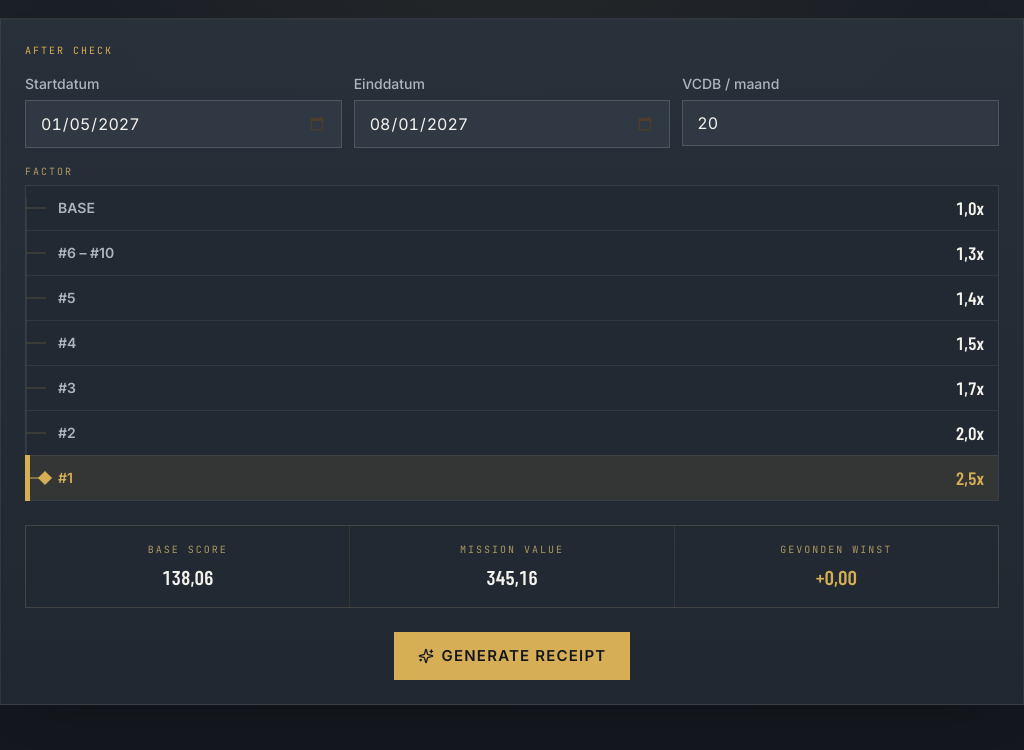
MissionReceiptFlow — receipt is never gated on 6/6 › B. 5/6, with a Calculator session: GENERATE RECEIPT is present and produces a receipt
The width and height of the screenshot is (1024, 750).
Click the button "Generate Receipt": [512, 656] box [394, 632, 630, 680]
(page scrolled)
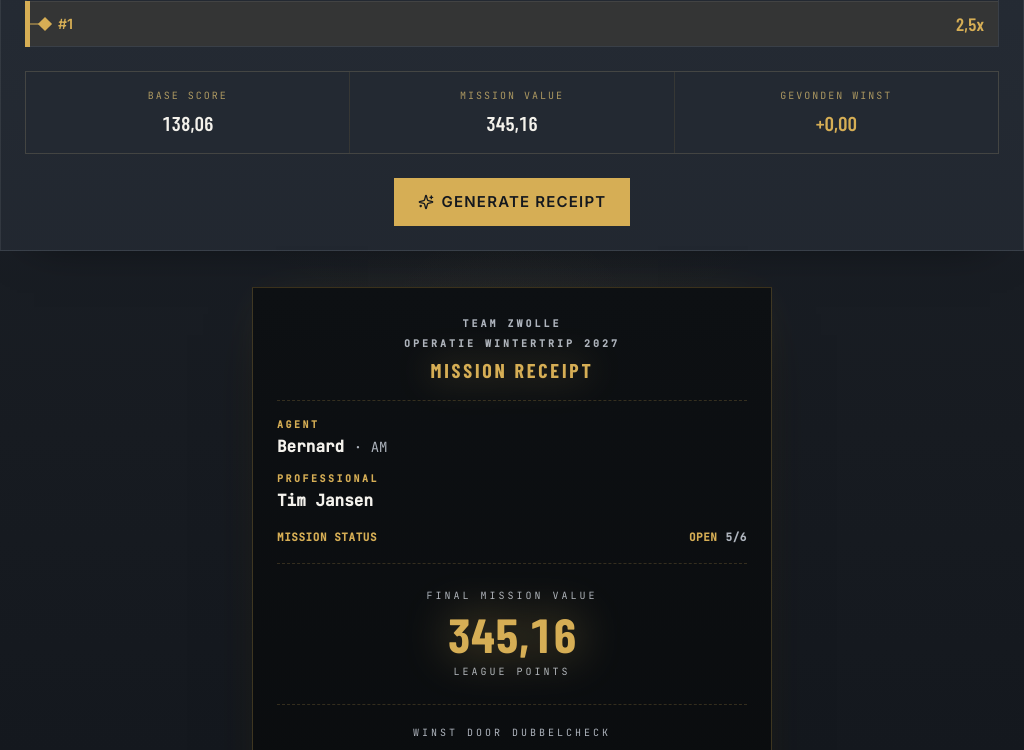
Expected: the text "Mission Receipt" is shown, [430, 358, 594, 382]
